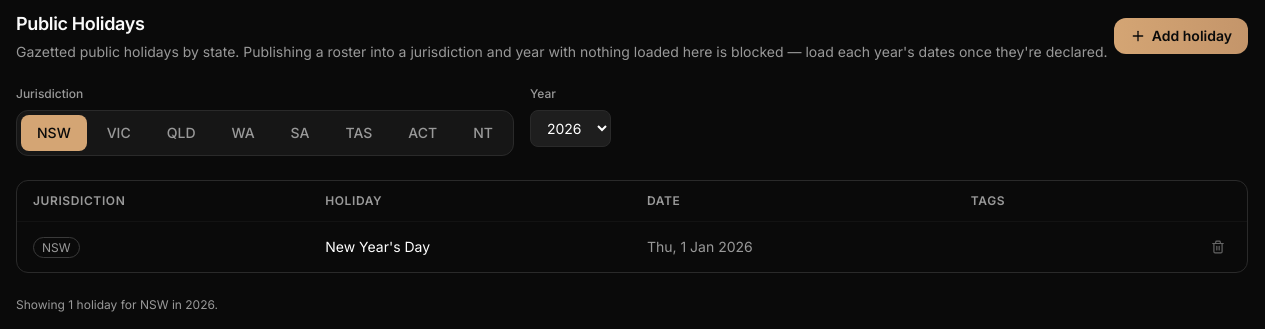
Test: PublicHolidaysTab › REGRESSION: switching the jurisdiction pill rescopes the year to one that has data for the new jurisdiction
expect the dropdown labelled "Year" shows "2026": met, box [530,110,611,147]
Click the tab "VIC". click: (119, 133)
box: [91,115,147,151]
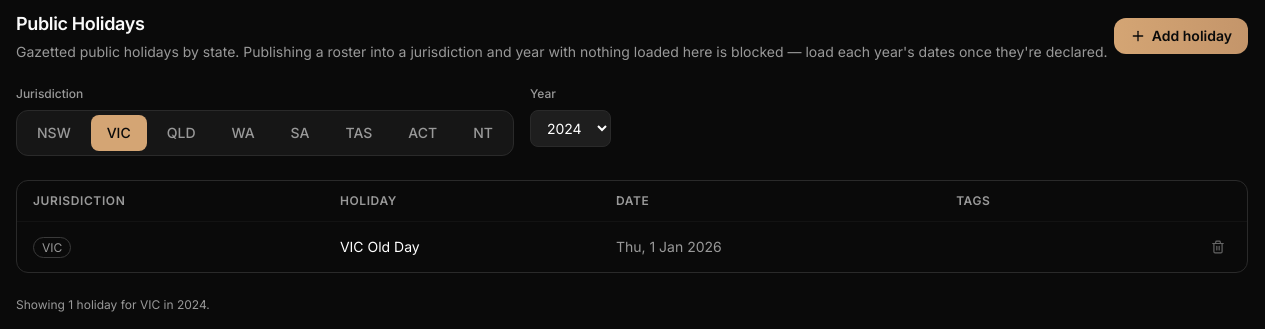
expect the text "VIC Old Day" is shown: met, box [324,222,600,272]
